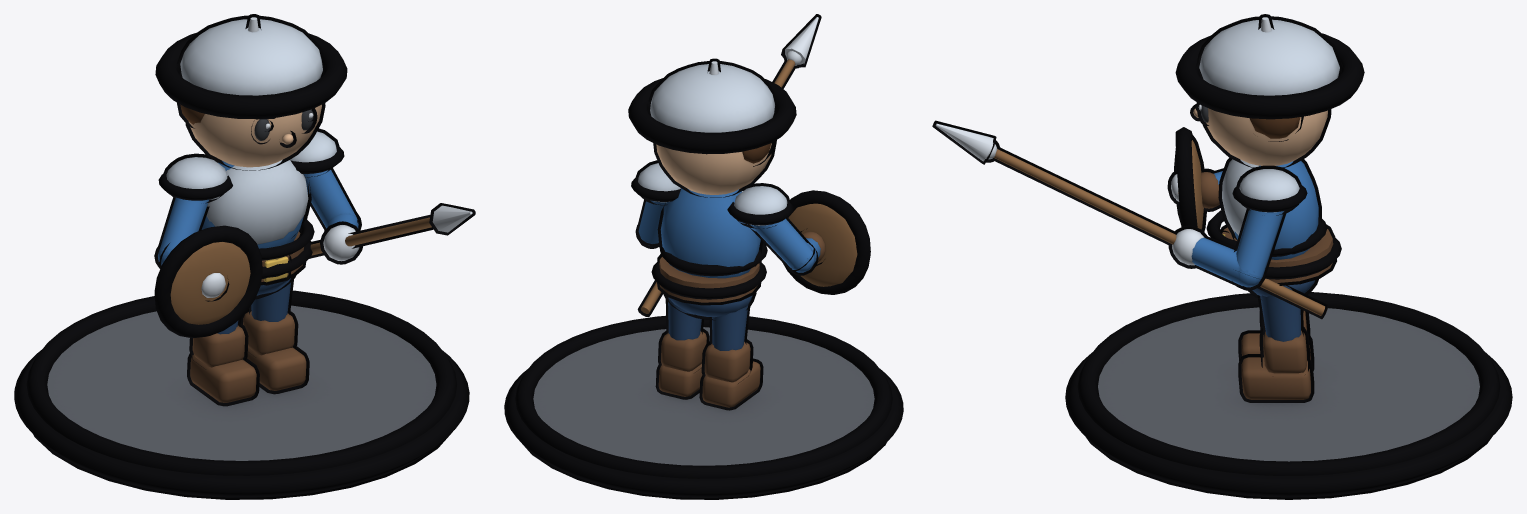
The model's file is lancer_s2.fbx.
The picture shows the model from 3 angles, left to right: view 1: azimuth 30°, elevation 25°; view 2: azimuth 150°, elevation 25°; view 3: azimuth 270°, elevation 25°; orthographic projection. The views are drawn at different scales.
Visible parts, largest first — view 1: lancer_s2; view 2: lancer_s2; view 3: lancer_s2.
Boxes of the visible parts, x1=… form: lancer_s2: x1=14, y1=14, x2=475, y2=499; lancer_s2: x1=504, y1=14, x2=903, y2=499; lancer_s2: x1=932, y1=14, x2=1512, y2=499.
Size of the model in its own units: 1.58 by 1.54 by 2.05.
2 materials, 1 textured.
